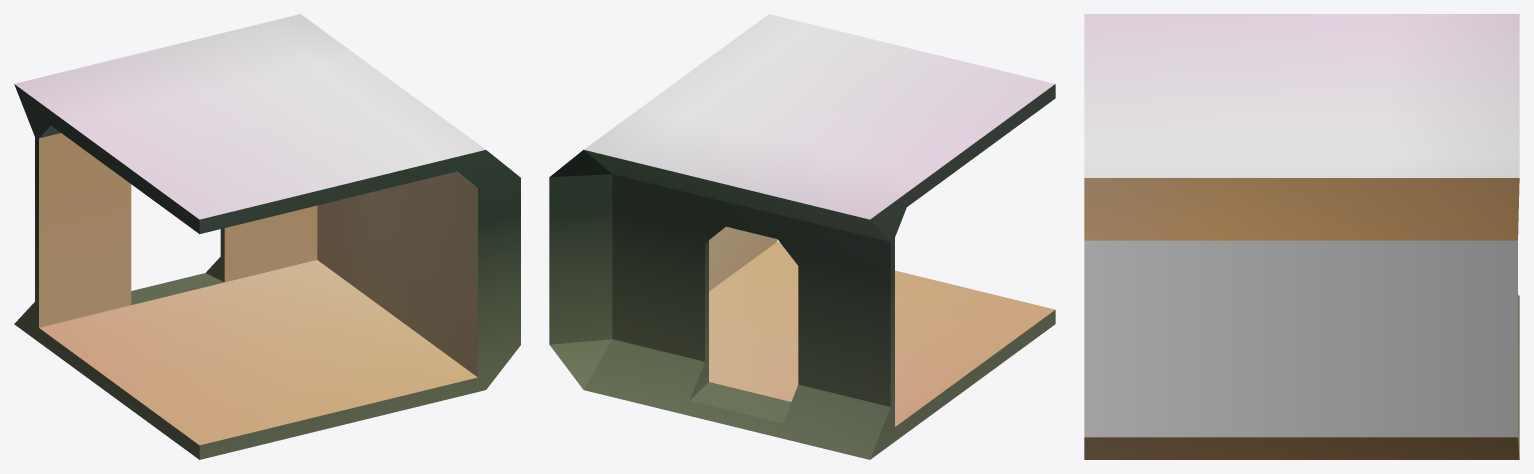
The model's file is R_OutWall_CornerDoor_L.fbx.
3 views of the same model, side by side, from view 1: azimuth 30°, elevation 25°; view 2: azimuth 150°, elevation 25°; view 3: azimuth 270°, elevation 25° (orthographic). The views are drawn at different scales.
Visible parts, largest first — view 1: R_OutWall_CornerDoor_L; view 2: R_OutWall_CornerDoor_L; view 3: R_OutWall_CornerDoor_L.
Boxes of the visible parts, bbox=[...] form: R_OutWall_CornerDoor_L: bbox=[14, 14, 520, 459]; R_OutWall_CornerDoor_L: bbox=[549, 14, 1055, 459]; R_OutWall_CornerDoor_L: bbox=[1084, 14, 1519, 459].
Bounding box in the file's own units: 4.62 × 4.62 × 3.3.
